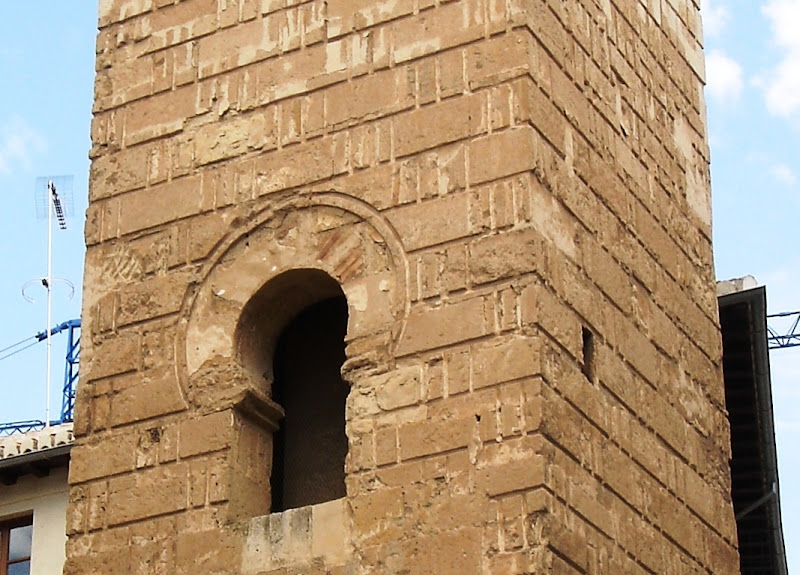arco-herradura: (171, 190, 420, 420)
